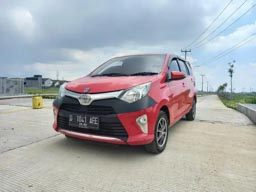plat: (68, 114, 99, 122)
